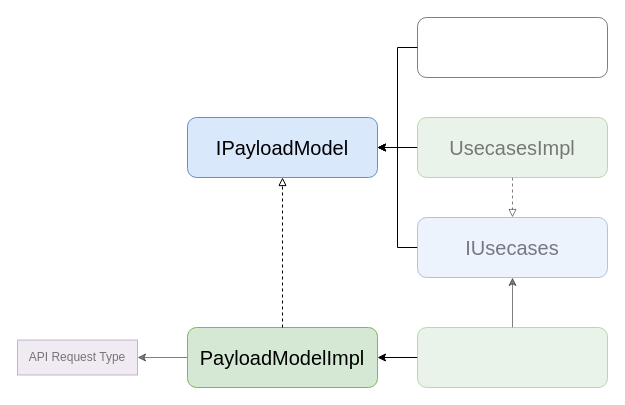
Image size: 625x405. Some labels were removed from this diagram. Each missing label, with the centre of its shape:
"Gateway" goes at [512,47].
"Service" goes at [512,357].
